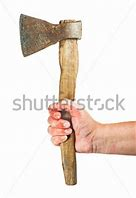axe: (18, 11, 90, 186)
